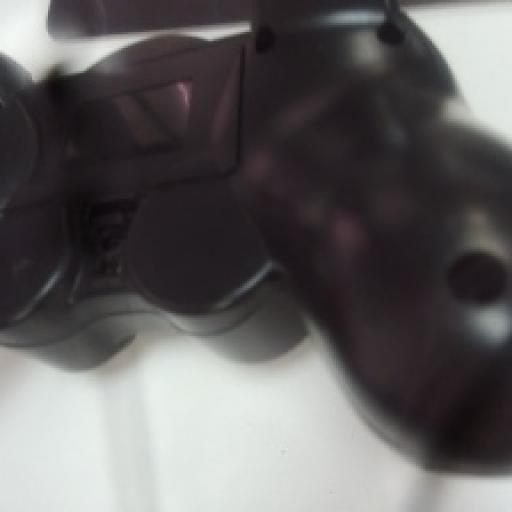game pad: (0, 2, 510, 471)
